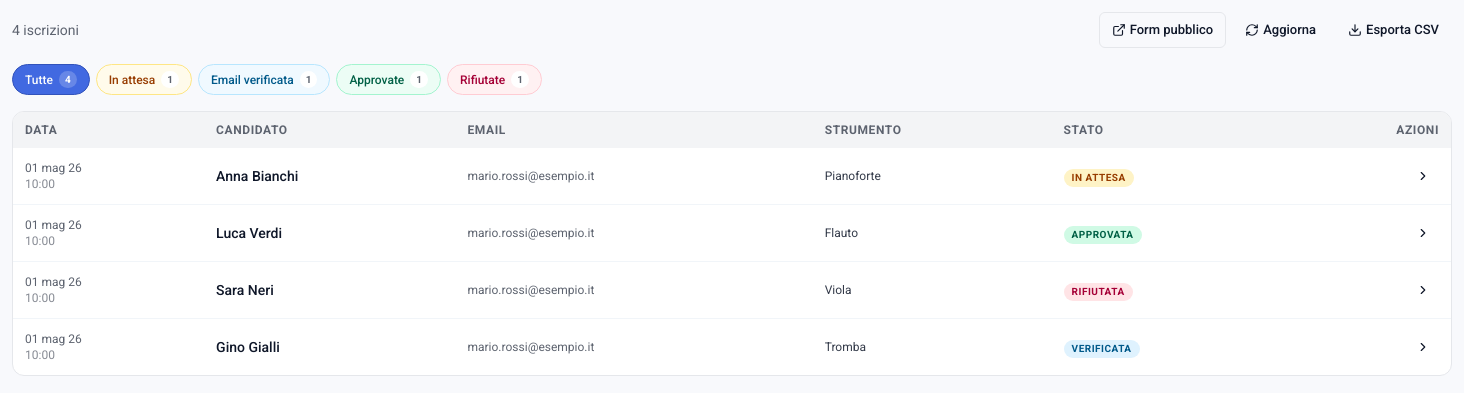
Test: IscrizioniTab › filters rows by status when a filter pill is selected
Expected: the text "Anna Bianchi" is shown, left=216, top=168, right=298, bottom=184
Expected: the text "Luca Verdi" is shown, left=216, top=225, right=282, bottom=241
Click the button "Approvate 1" at (389, 80), box left=336, top=64, right=441, bottom=95
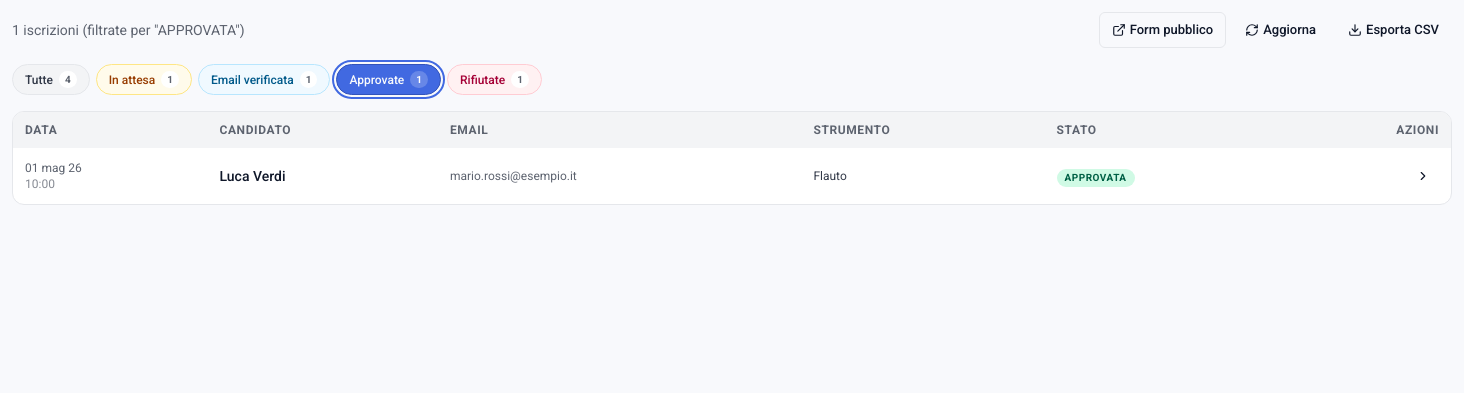
Result: the text "Anna Bianchi" is gone
Result: the text "Sara Neri" is gone
Result: the text "Gino Gialli" is gone
